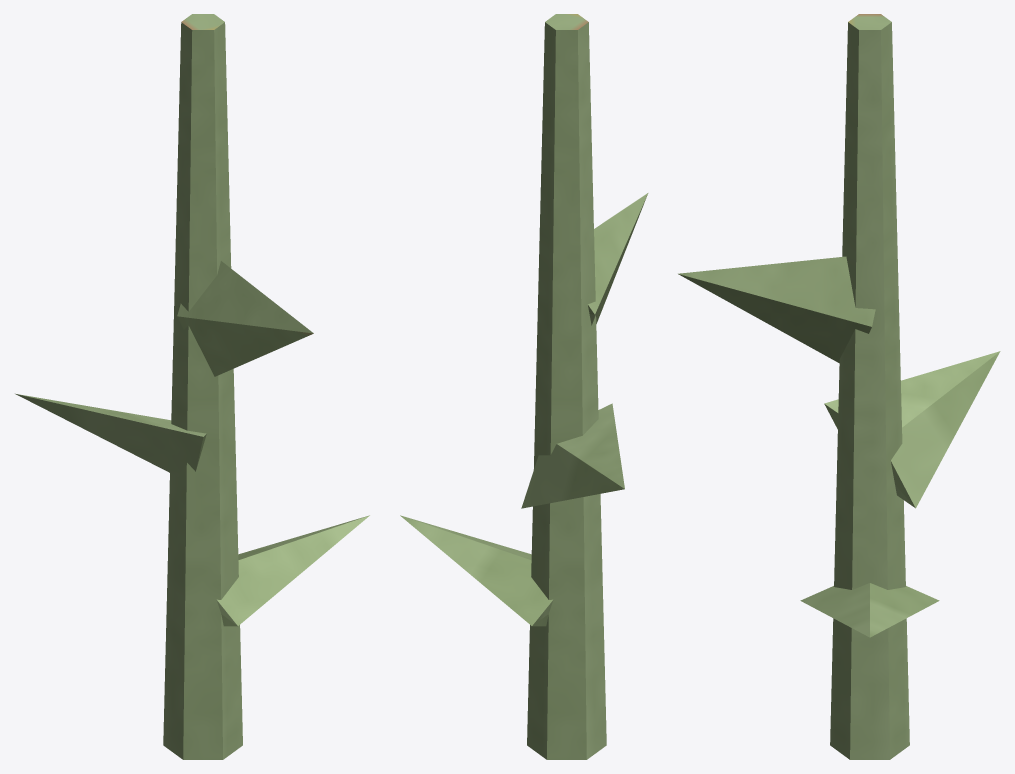
The model's file is sm_crop_sunflower_2.glb.
3 renders of one model, left to right at view 1: azimuth 30°, elevation 25°; view 2: azimuth 150°, elevation 25°; view 3: azimuth 270°, elevation 25°, orthographic.
Parts seen in each view (by area): view 1: sm_crop_sunflower_2; view 2: sm_crop_sunflower_2; view 3: sm_crop_sunflower_2.
Boxes of the visible parts, bbox=[...] form: sm_crop_sunflower_2: bbox=[15, 14, 369, 759]; sm_crop_sunflower_2: bbox=[400, 14, 648, 759]; sm_crop_sunflower_2: bbox=[678, 14, 1000, 759].
Size of the model in its own units: 0.1683 by 0.4 by 0.162.
Materials: 1 (1 with a texture image).
